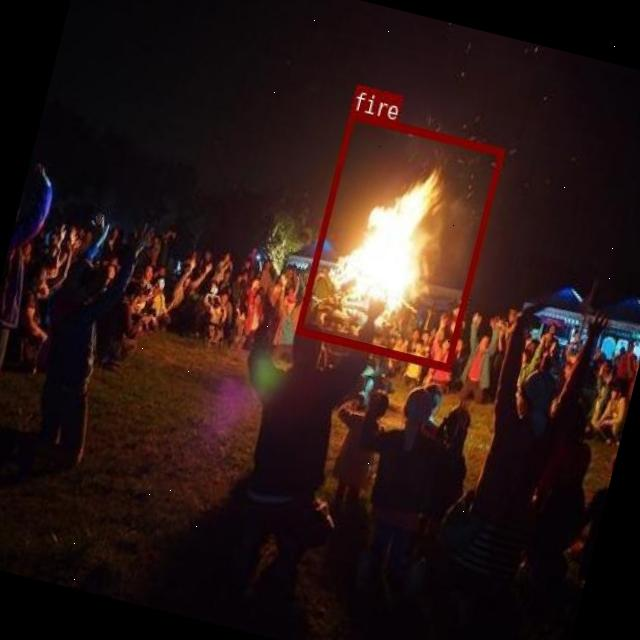fire: (294, 108, 504, 370)
